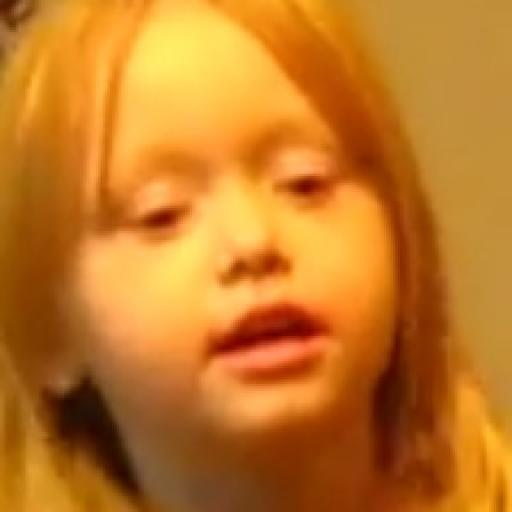Autism: (32, 0, 409, 475)
